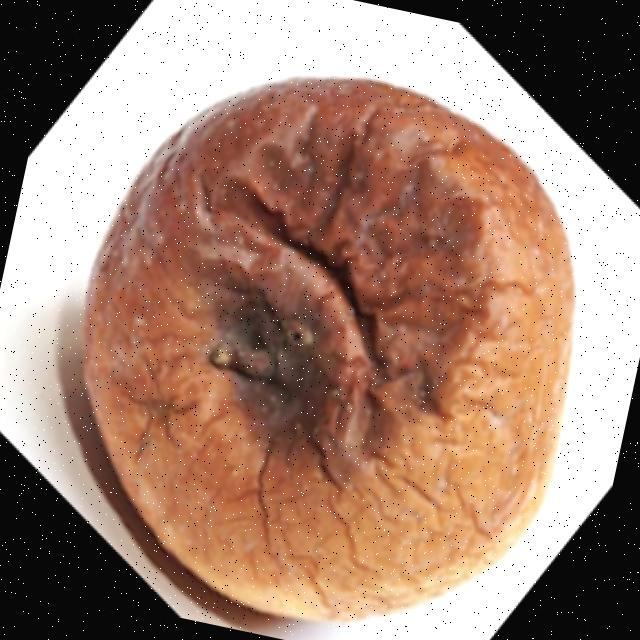Rotten: (21, 19, 630, 640)
